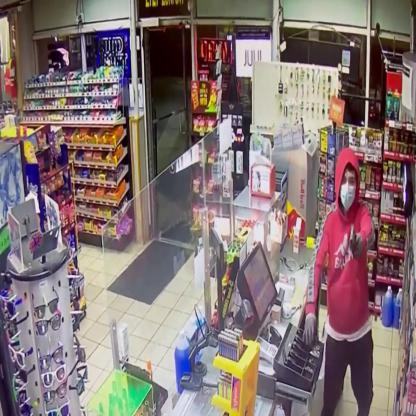Pistol: (342, 218, 362, 258)
